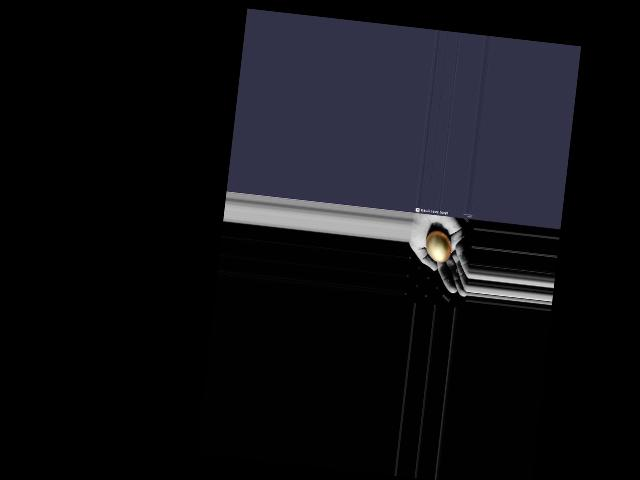egg: (424, 230, 453, 263)
